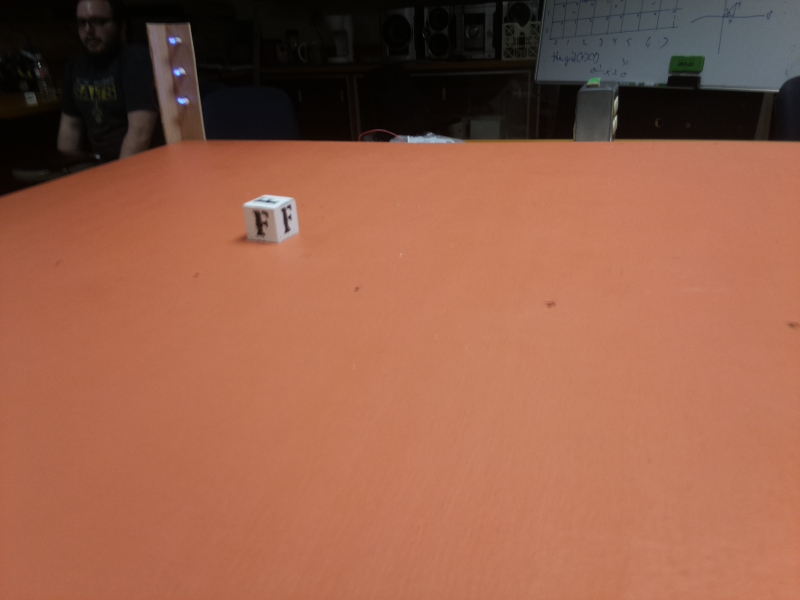blockF: (241, 191, 307, 248)
corner: (149, 19, 209, 144)
